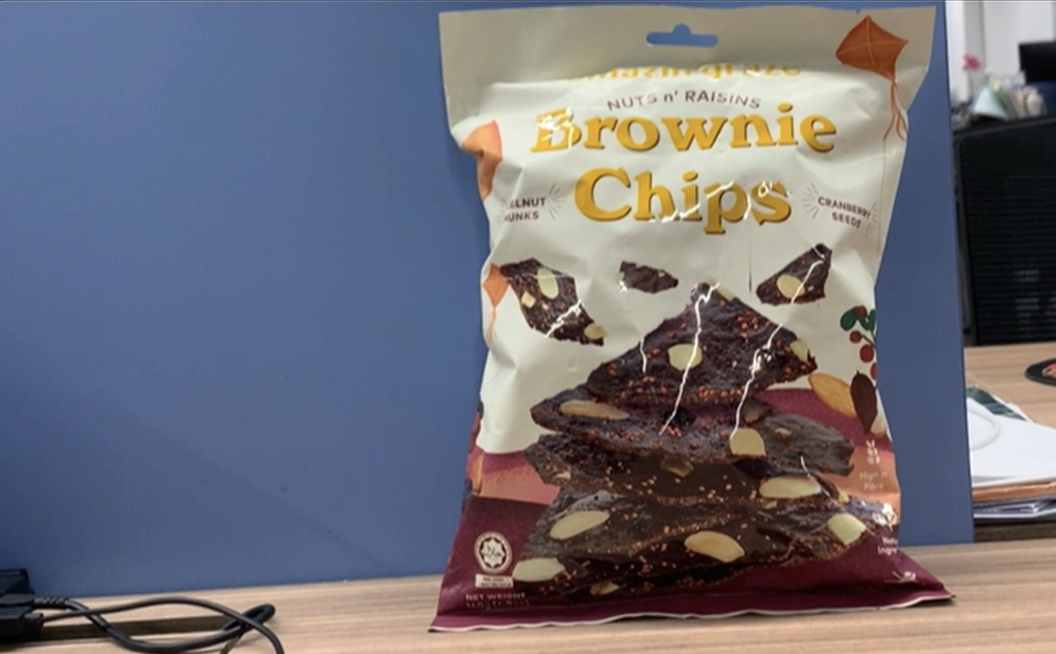crackers_100g-199g: (469, 85, 876, 585)
